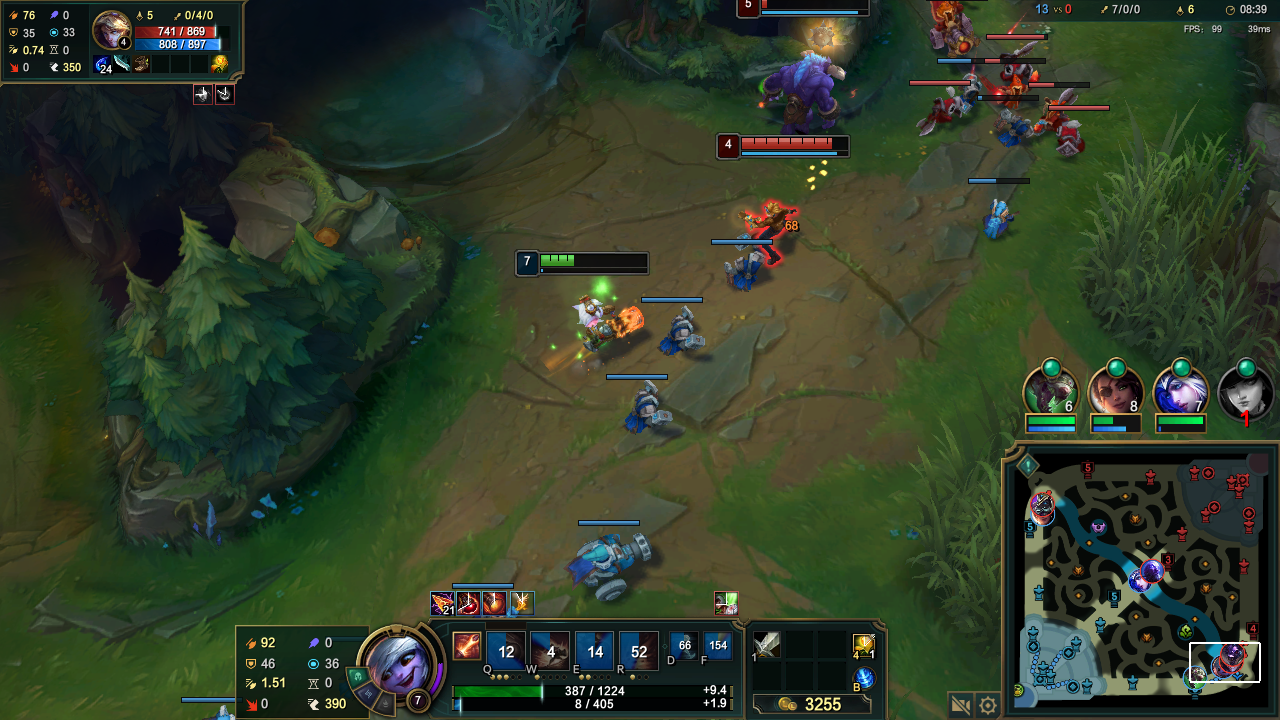DFXB: (924, 8, 986, 57), (910, 86, 971, 135), (1049, 116, 1094, 161), (986, 71, 1033, 110), (995, 48, 1045, 83), (1035, 94, 1073, 133)
DFYX: (740, 137, 840, 156), (759, 1, 797, 13)
WFXB: (564, 535, 666, 602), (650, 303, 711, 359), (618, 382, 677, 437), (714, 250, 769, 292), (981, 195, 1023, 239), (996, 109, 1036, 149)
